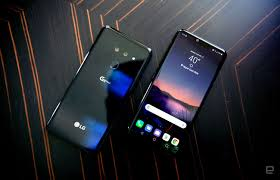lg: (44, 23, 153, 154), (128, 24, 225, 154)
